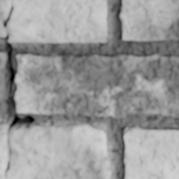brick: (15, 54, 178, 117), (124, 127, 178, 178), (120, 0, 178, 40), (0, 53, 5, 100)
broken_brick: (0, 123, 111, 178), (0, 0, 107, 42), (0, 26, 4, 37)
crack: (0, 2, 34, 176), (136, 130, 149, 160), (123, 127, 130, 135)
